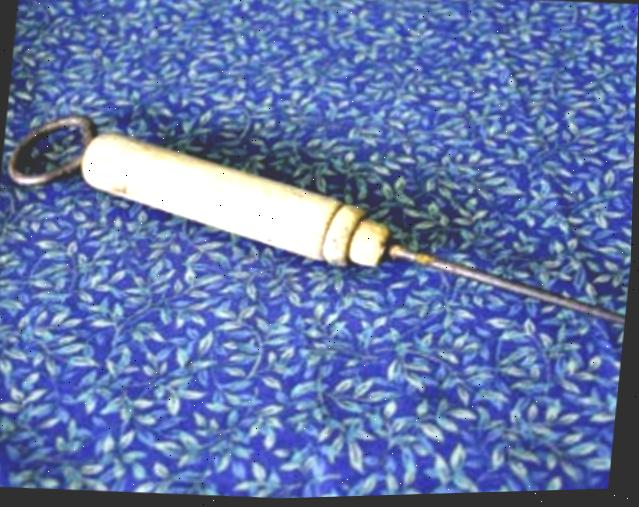ice pick: (70, 115, 636, 350)
